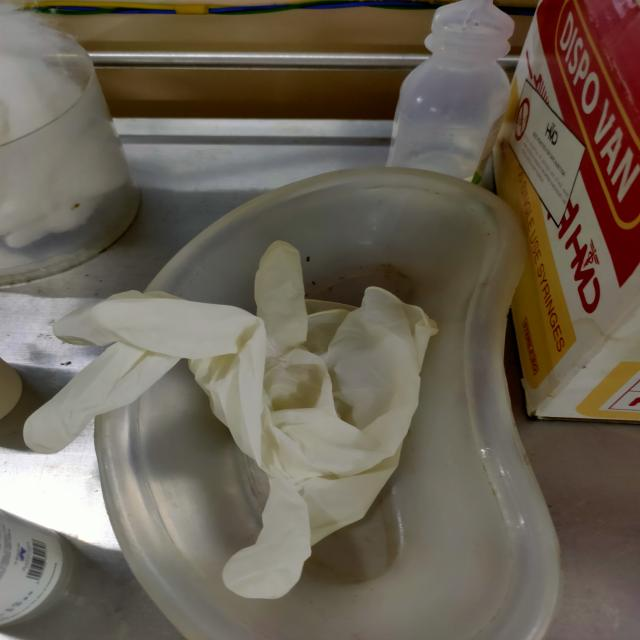B3: (24, 236, 444, 602), (522, 0, 640, 378), (0, 5, 121, 254), (389, 2, 514, 178)
